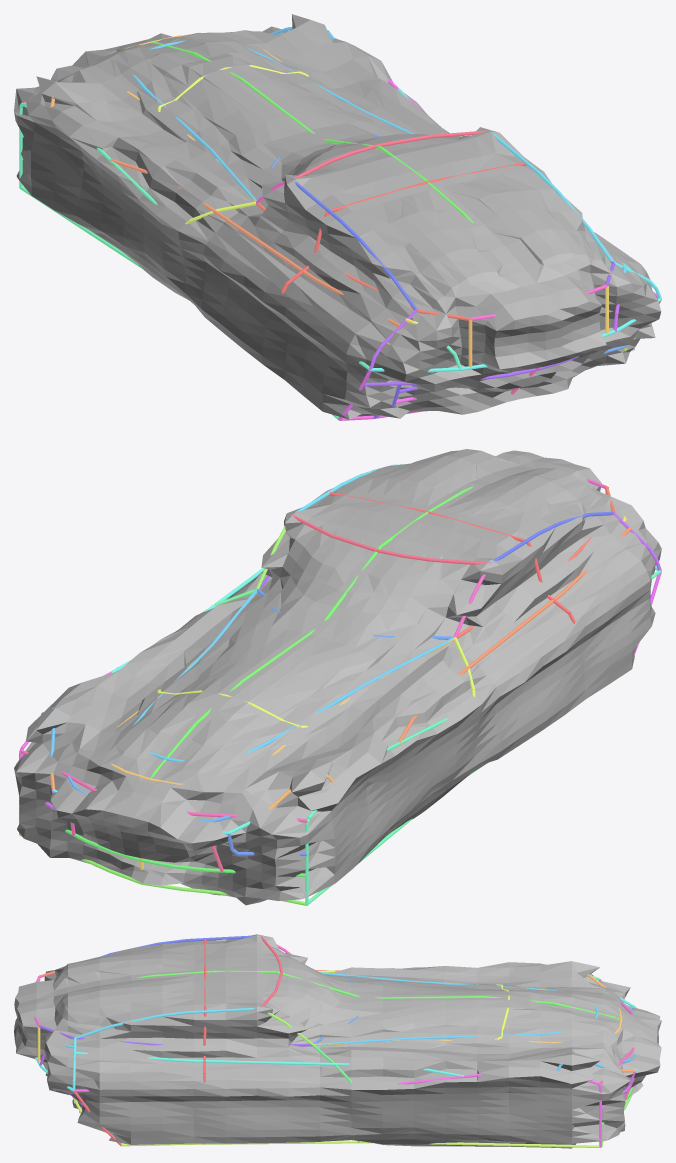
The model's file is t2f_car_93.gltf.
3 views of the same model, one above another, from view 1: azimuth 30°, elevation 25°; view 2: azimuth 150°, elevation 25°; view 3: azimuth 270°, elevation 25° (orthographic). The views are drawn at different scales.
Bounding box in the file's own units: 0.4003 × 0.2362 × 0.9601.
